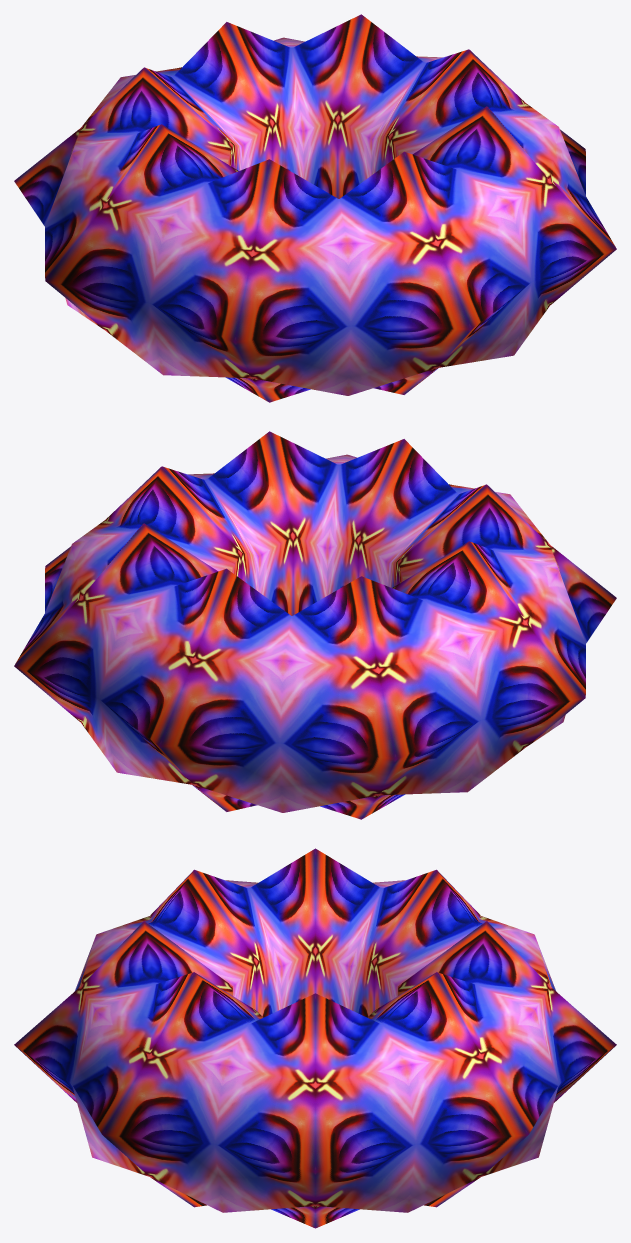
File: ufo-05.fbx
The picture shows the model from 3 angles, top to bottom: view 1: azimuth 30°, elevation 25°; view 2: azimuth 150°, elevation 25°; view 3: azimuth 270°, elevation 25°; orthographic projection. The views are drawn at different scales.
Parts seen in each view (by area): view 1: ufo-05; view 2: ufo-05; view 3: ufo-05.
Boxes of the visible parts, bbox=[...] form: ufo-05: bbox=[14, 14, 616, 402]; ufo-05: bbox=[14, 431, 616, 819]; ufo-05: bbox=[14, 848, 616, 1228].
Size of the model in its own units: 71.32 by 30.69 by 71.32.
